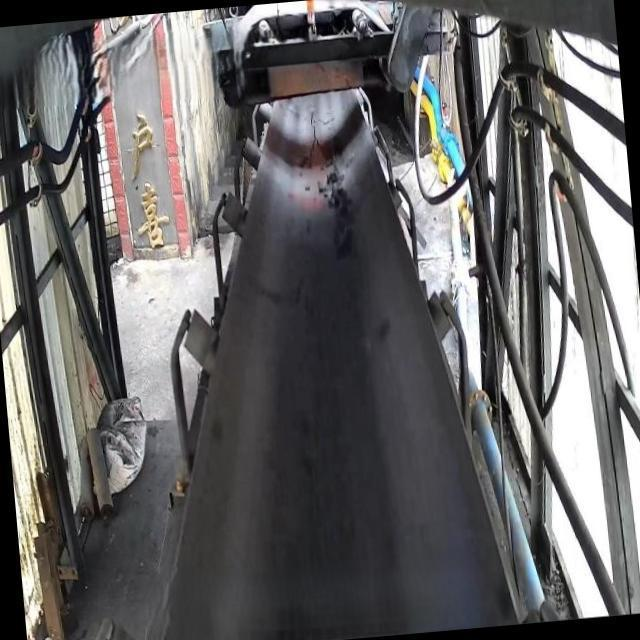Tear: (294, 108, 338, 174)
